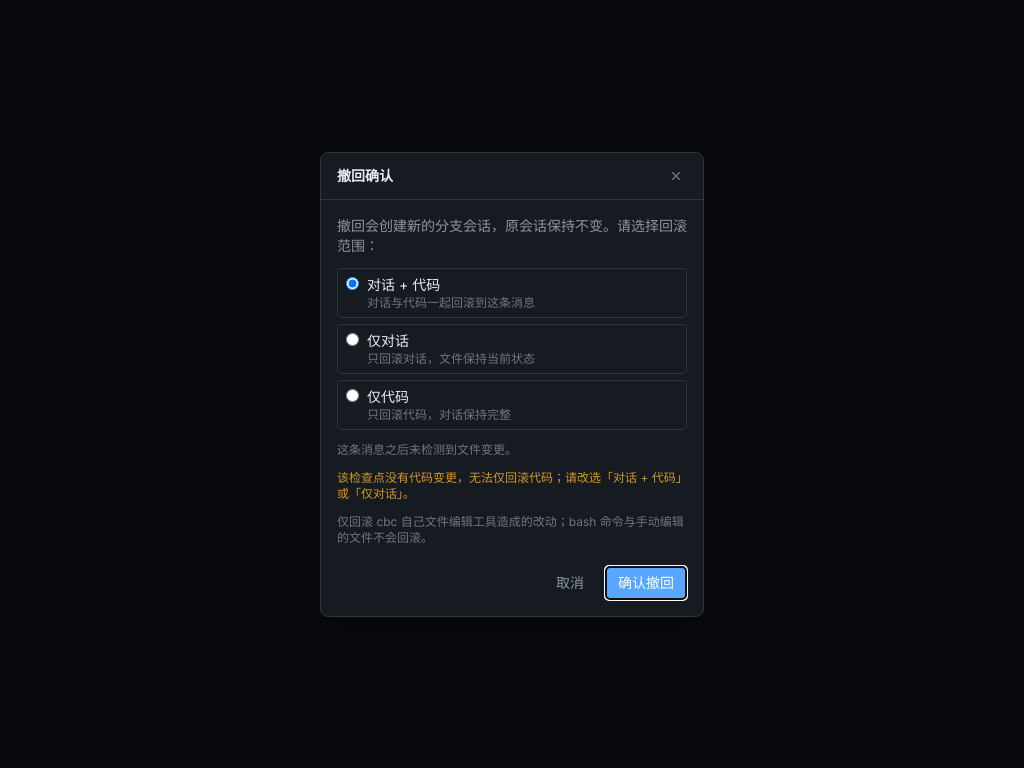
Test: RewindConfirmModal › shows progress from the FIRST confirm click, before the POST resolves
Click the button "确认撤回" at {"x": 646, "y": 582}, box [605, 566, 687, 600]
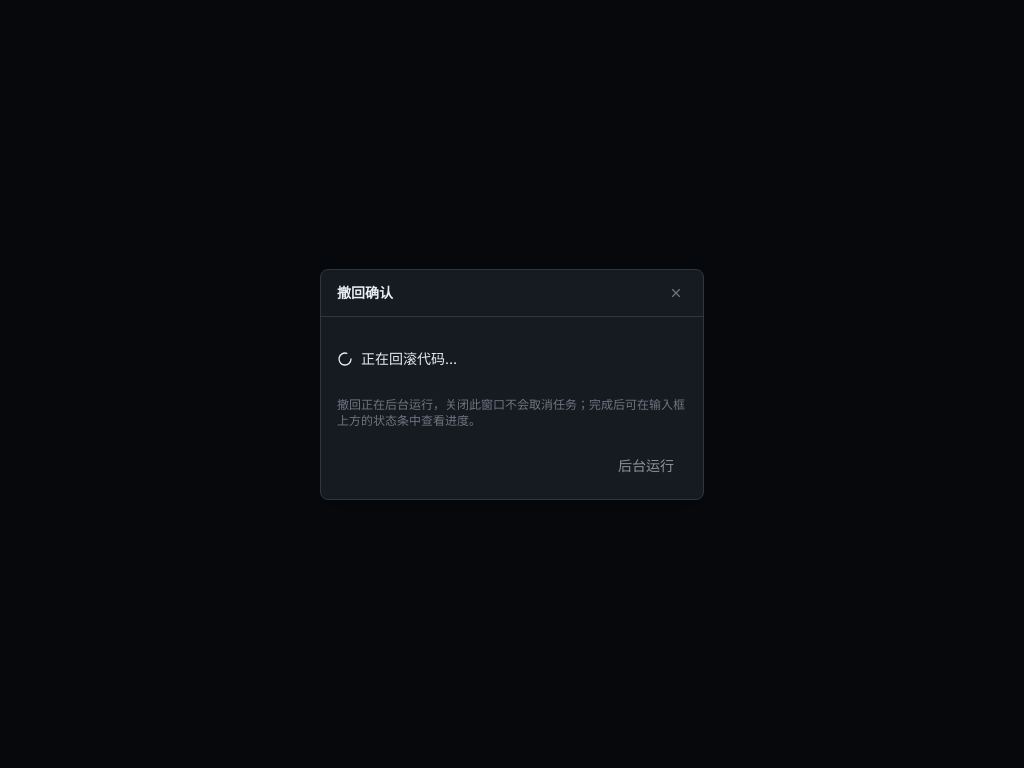
Expected: the text "正在回滚代码…" is shown, [361, 348, 457, 368]
